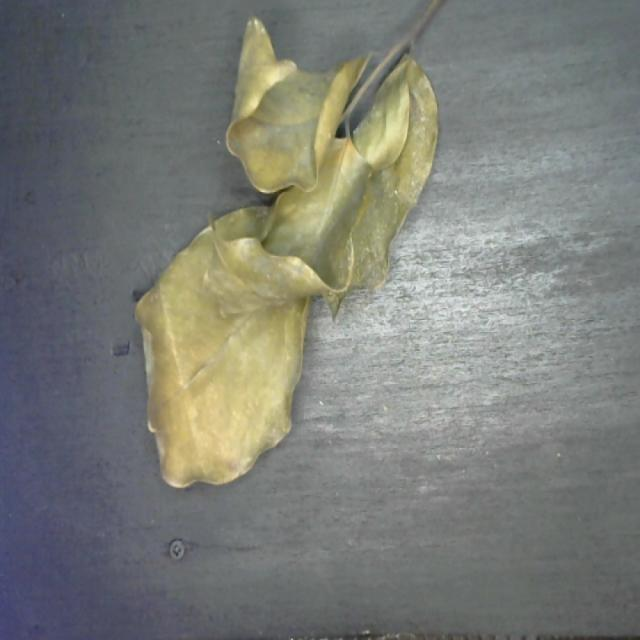biodegradable: (123, 1, 441, 490)
